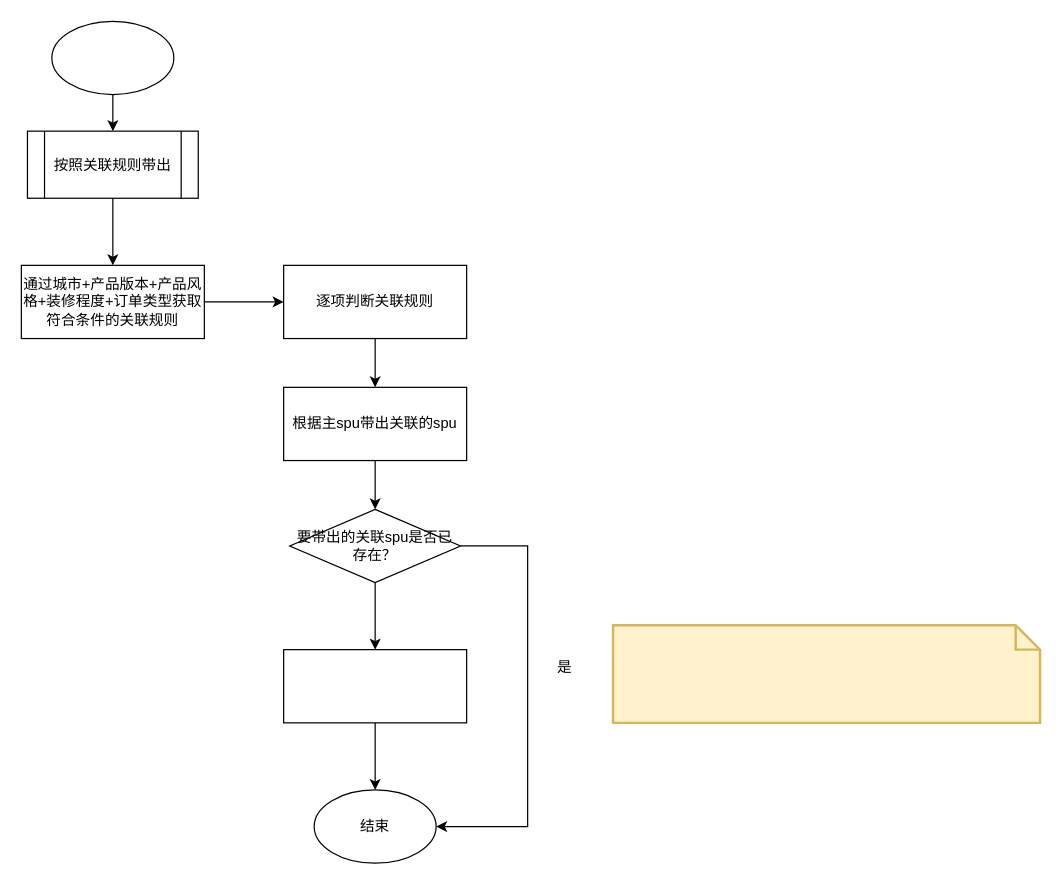
The diagram is 1063 pixels wide and 885 high, and some of its shapes have lost their labels. The shapes that lost their labels are listed below. From the top down, each one's centre as x and y in pixels, then its label:
At point (112, 57): "开始".
At point (374, 685): "通过bom获取关联spu 应该带出的项目".
At point (826, 673): "通过城市+产品版本+产品风格+装修程度+订单类型+时间（当前时间）BOM的物料清单".
